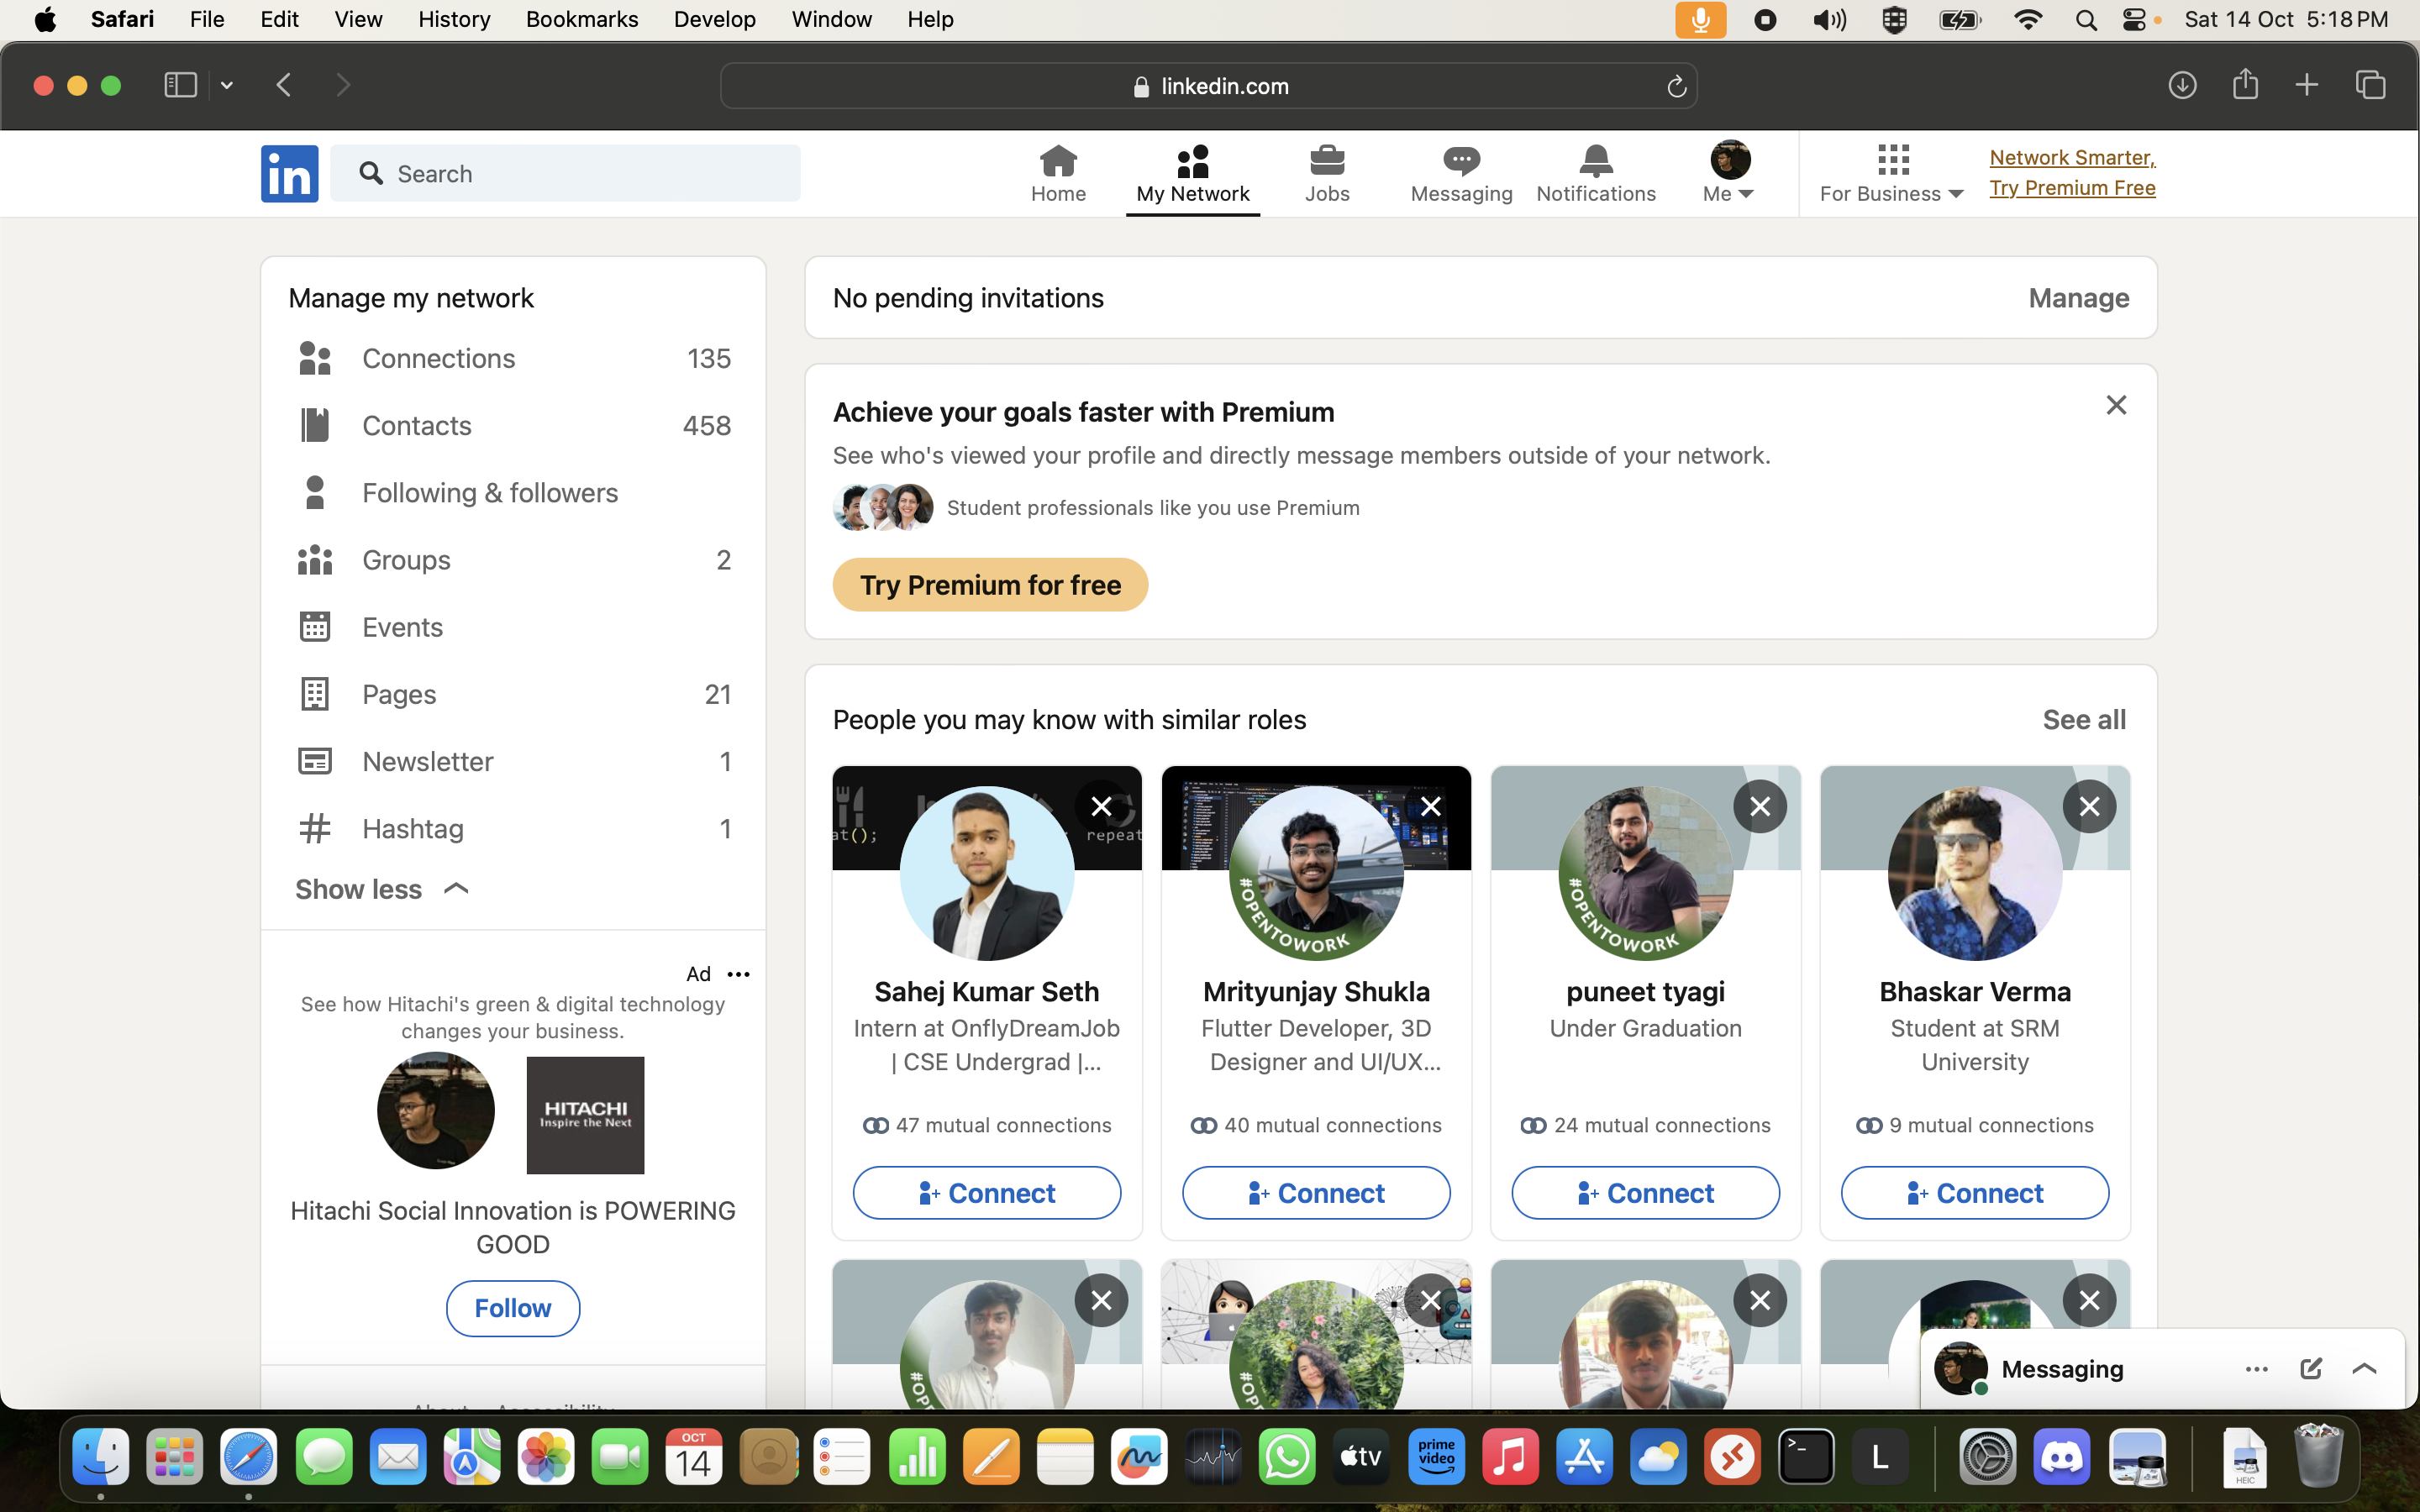Image: (1209, 789, 1425, 949), (899, 786, 1078, 958), (1558, 782, 1728, 955), (1228, 1268, 1404, 1425), (902, 1279, 1078, 1418), (1558, 1286, 1741, 1407), (526, 1063, 646, 1169), (383, 1059, 493, 1162), (1707, 136, 1758, 183)
Paragraph: (282, 1191, 765, 1265), (822, 442, 1777, 479), (289, 982, 728, 1052), (826, 387, 1338, 435), (936, 486, 1368, 530), (836, 1016, 1126, 1075), (1199, 1009, 1444, 1075), (822, 273, 1119, 326), (1887, 1012, 2073, 1075), (848, 566, 1126, 606), (1225, 1099, 1451, 1144), (355, 472, 632, 509), (347, 333, 533, 387), (286, 282, 530, 322), (1551, 1104, 1781, 1144), (1878, 1108, 2101, 1144), (1192, 969, 1437, 1002), (859, 972, 1101, 1005), (1538, 1009, 1751, 1045), (889, 1108, 1119, 1141), (1875, 969, 2084, 1002), (286, 866, 423, 913), (1601, 1169, 1737, 1212), (1558, 979, 1741, 1009), (362, 742, 505, 779), (362, 409, 486, 449), (359, 808, 483, 848), (1934, 1172, 2051, 1212), (1275, 1178, 1397, 1212), (355, 599, 453, 639), (2028, 282, 2131, 319), (943, 1178, 1059, 1209), (362, 679, 453, 719), (350, 545, 456, 577)
